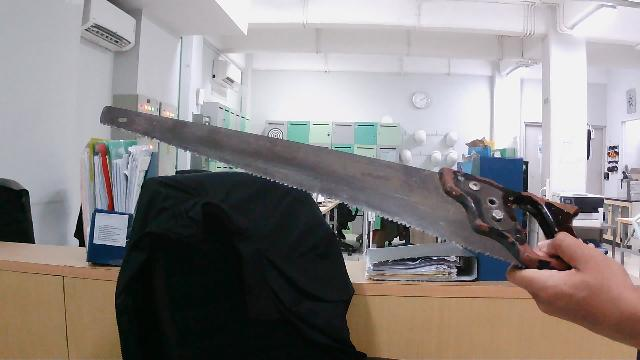gergaji_kayu: (92, 89, 588, 287)
